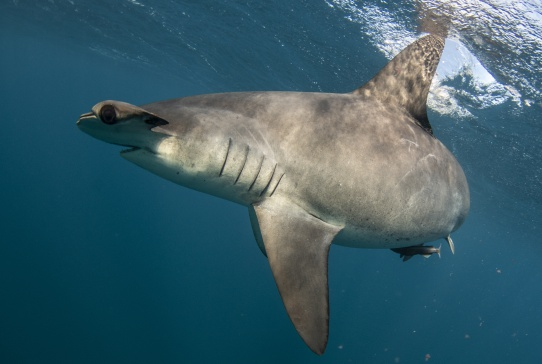Hammer: (61, 6, 521, 364)
